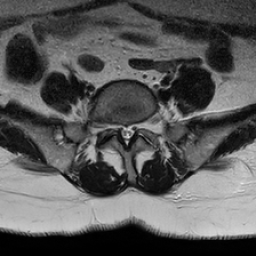CCS_normal: (123, 116, 129, 153)
LFS_normal: (136, 113, 144, 134)
LLS_normal: (129, 118, 134, 141)
RFS_stenosis: (110, 116, 118, 136)
RLS_normal: (118, 120, 124, 142)
